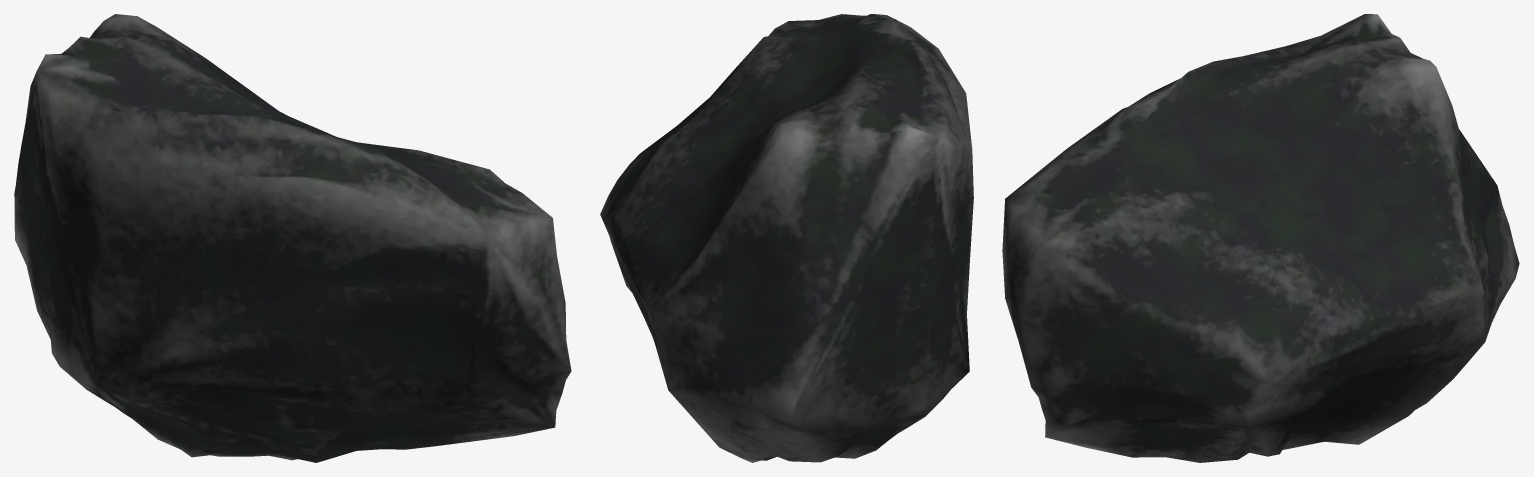
Rendered from rockDemo_06.glb.
3 renders of one model, left to right at view 1: azimuth 30°, elevation 25°; view 2: azimuth 150°, elevation 25°; view 3: azimuth 270°, elevation 25°, orthographic. The views are drawn at different scales.
Visible parts, largest first — view 1: Rock_06; view 2: Rock_06; view 3: Rock_06.
Part boxes in pixels (<box>): Rock_06: <box>14,14,571,462</box>; Rock_06: <box>600,14,973,462</box>; Rock_06: <box>1002,14,1519,462</box>.
Bounding box in the file's own units: 0.4298 × 0.4073 × 0.5367.
Materials: 1 (1 with a texture image).
